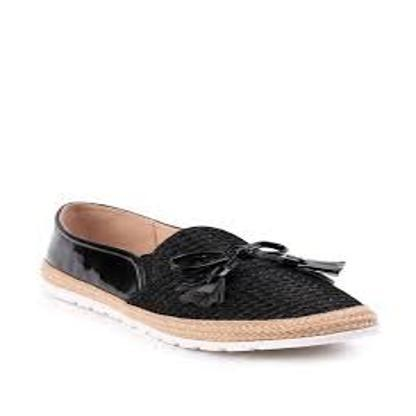not trash: (35, 187, 379, 361)
